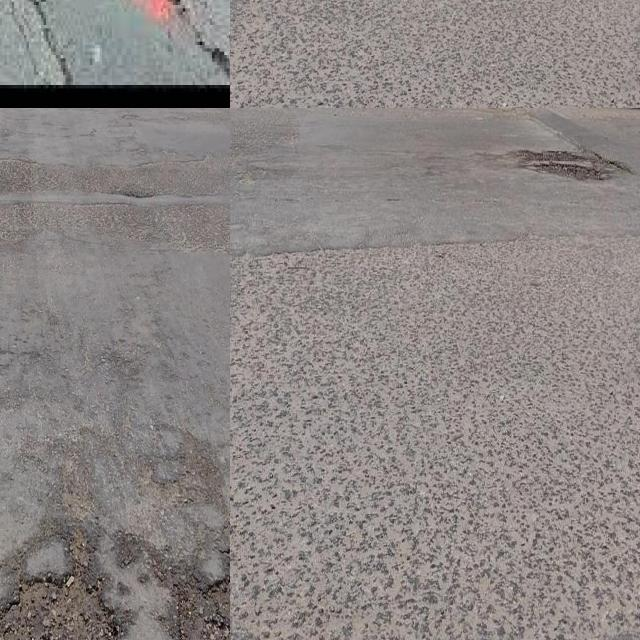Pothole: (0, 530, 122, 640), (532, 163, 605, 180), (509, 150, 586, 161)
Unmarked Bump: (498, 108, 640, 177)
